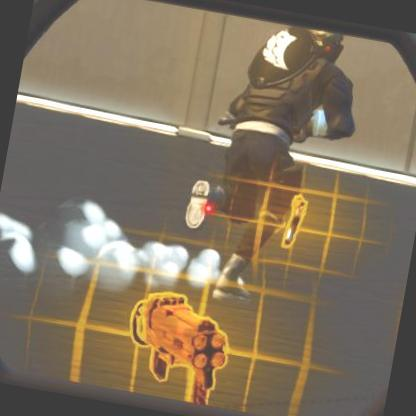person: (200, 13, 371, 269)
